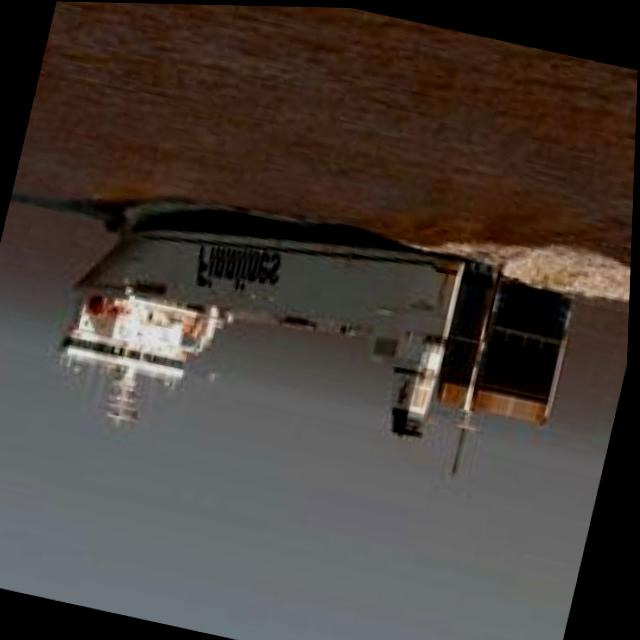ship2: (60, 207, 578, 476)
